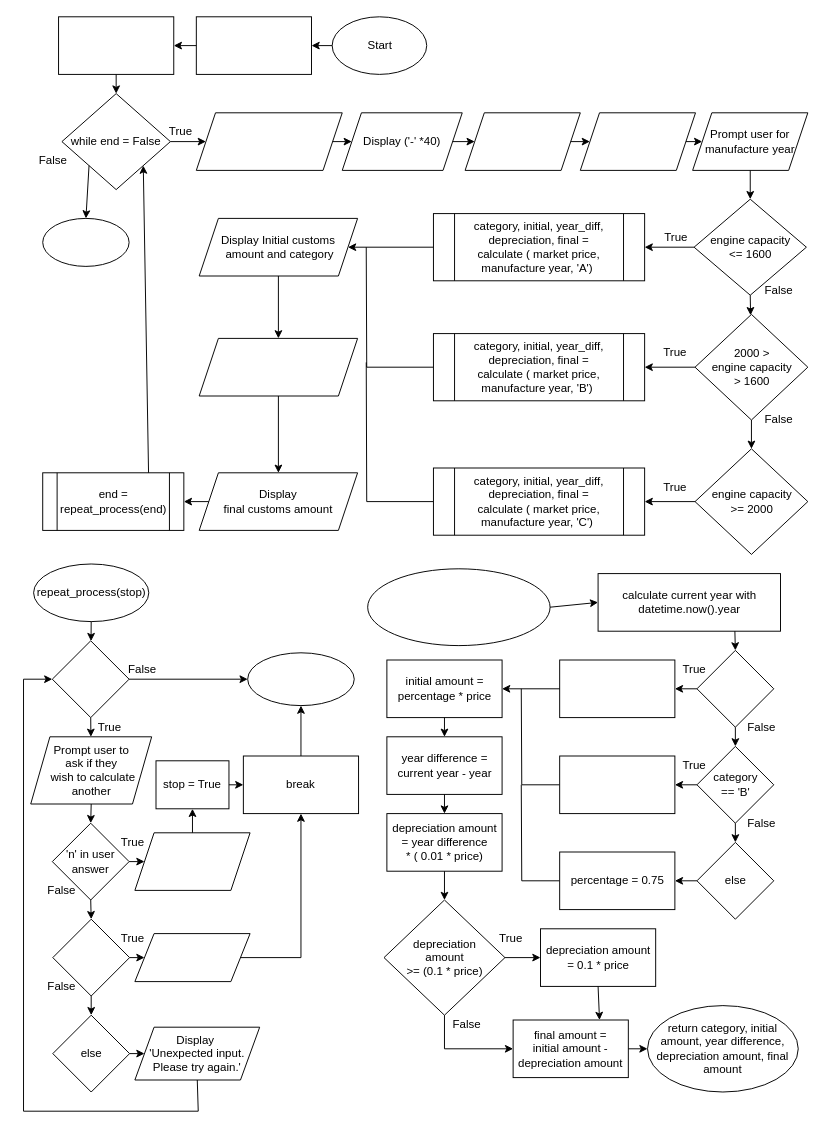
Some shapes in this 825 by 1136 pixel diagram are drawn without their labels. Here are the shapes that lost their labels. From the top down, the box of each, then its label:
(58, 16, 174, 74): end = False
(195, 16, 312, 74): import datetime module
(195, 112, 342, 170): Display 'Utopia Vehicle Customs Calculator')
(464, 112, 580, 170): Prompt user for market price
(579, 112, 696, 170): Prompt user for engine capacity
(42, 217, 129, 266): End
(198, 337, 358, 396): Display depreciation discount and year_diff
(367, 568, 550, 646): calculate(price, year, category)
(51, 640, 129, 718): while True
(247, 652, 354, 706): return stop
(559, 659, 675, 718): percentage = 0.25
(696, 649, 774, 727): category == 'A'
(559, 755, 675, 814): percentage = 0.5
(134, 832, 250, 890): Display 'Have a nice day!'
(52, 918, 130, 996): 'y' in user answer
(134, 933, 250, 982): Display ('-' * 40)
